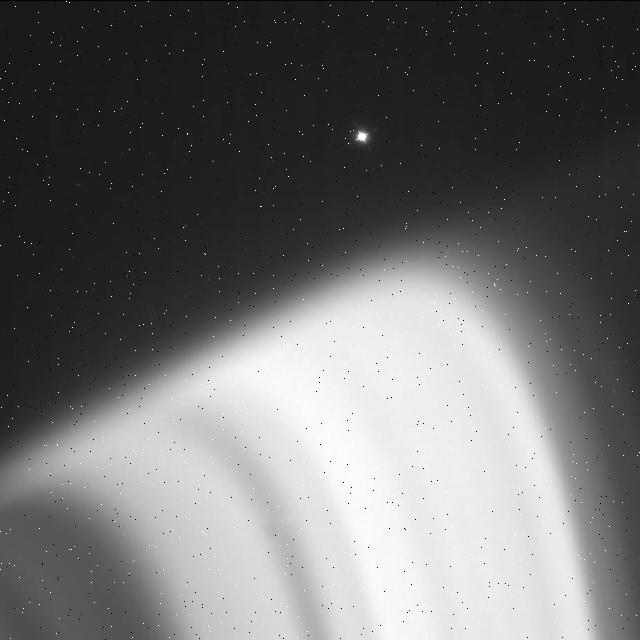Saturn: (0, 162, 640, 640)
